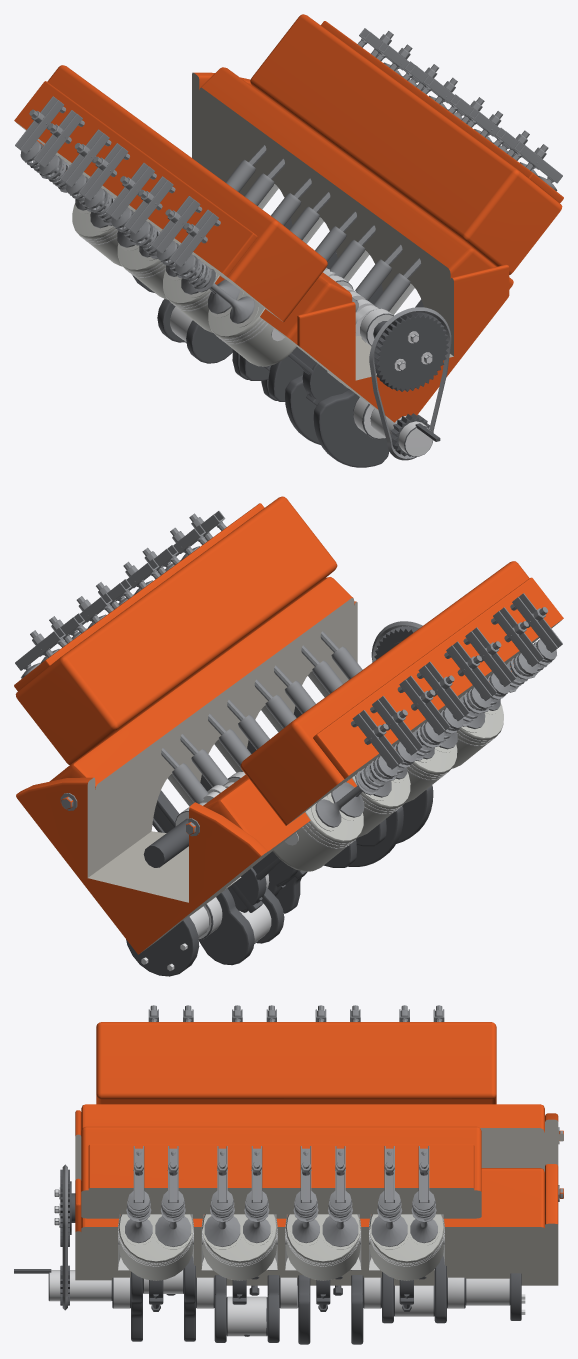
The model's file is motor_interno.glb.
3 views of the same model, one above another, from view 1: azimuth 30°, elevation 25°; view 2: azimuth 150°, elevation 25°; view 3: azimuth 270°, elevation 25° (orthographic). The views are drawn at different scales.
Visible parts, largest first — view 1: bloque-corte, tapa-cilindros-izq-corte, tapa-cilindros-der-corte, ciguenal, arbol-levas, piston-2, esparragos, cadena-distribucion, biela-2, piston-4, piston-6, piston-8 (+20 smaller); view 2: bloque-corte, tapa-cilindros-izq-corte, tapa-cilindros-der-corte, ciguenal, piston-8, esparragos, arbol-levas, biela-8, piston-6, piston-4, piston-2, valvula-8-esc (+20 smaller); view 3: tapa-cilindros-der-corte, bloque-corte, tapa-cilindros-izq-corte, ciguenal, piston-1, piston-7, piston-5, piston-3, esparragos, valvula-3-adm, valvula-5-adm, valvula-1-adm (+18 smaller).
Part boxes in pixels (<box>): bloque-corte: <box>37,67,513,422</box>; tapa-cilindros-izq-corte: <box>250,14,563,274</box>; tapa-cilindros-der-corte: <box>14,65,327,321</box>; ciguenal: <box>132,275,440,467</box>; arbol-levas: <box>323,267,448,391</box>; piston-2: <box>208,290,296,366</box>; esparragos: <box>29,31,548,243</box>; cadena-distribucion: <box>369,307,451,460</box>; biela-2: <box>287,347,347,405</box>; piston-4: <box>163,269,219,332</box>; piston-6: <box>117,243,167,299</box>; piston-8: <box>72,203,122,266</box>; bloque-corte: <box>16,577,513,954</box>; tapa-cilindros-izq-corte: <box>14,496,337,764</box>; tapa-cilindros-der-corte: <box>240,561,563,825</box>; ciguenal: <box>126,785,433,976</box>; piston-8: <box>272,793,363,871</box>; esparragos: <box>30,513,547,744</box>; arbol-levas: <box>143,626,417,867</box>; biela-8: <box>228,851,281,912</box>; piston-6: <box>352,772,410,837</box>; piston-4: <box>405,744,457,802</box>; piston-2: <box>452,703,503,768</box>; valvula-8-esc: <box>315,756,397,827</box>; tapa-cilindros-der-corte: <box>96,1022,496,1104</box>; bloque-corte: <box>75,1104,563,1285</box>; tapa-cilindros-izq-corte: <box>81,1126,481,1218</box>; ciguenal: <box>14,1255,525,1344</box>; piston-1: <box>118,1214,193,1280</box>; piston-7: <box>369,1214,444,1280</box>; piston-5: <box>285,1214,360,1280</box>; piston-3: <box>202,1214,277,1280</box>; esparragos: <box>134,1005,442,1172</box>; valvula-3-adm: <box>204,1191,240,1246</box>; valvula-5-adm: <box>322,1191,358,1246</box>; valvula-1-adm: <box>155,1191,191,1246</box>.
Size of the model in its own units: 0.5411 by 0.3898 by 0.7355.
